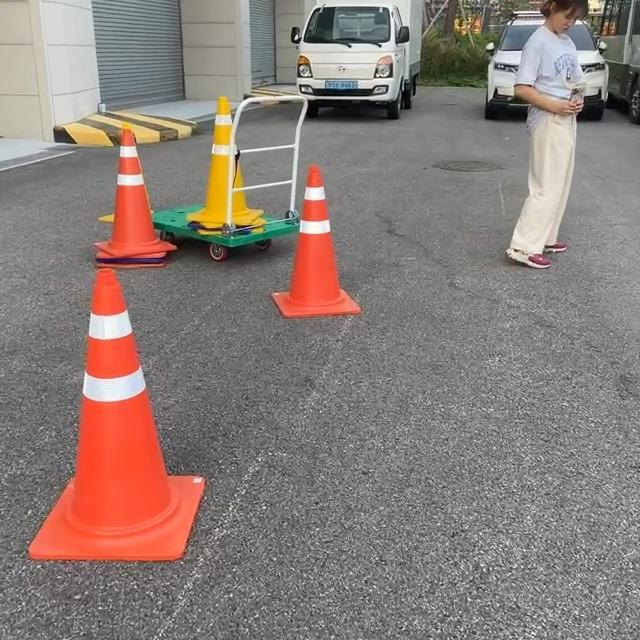fallen_object: (20, 275, 209, 568), (260, 147, 420, 385), (56, 96, 184, 272), (192, 77, 294, 275)
